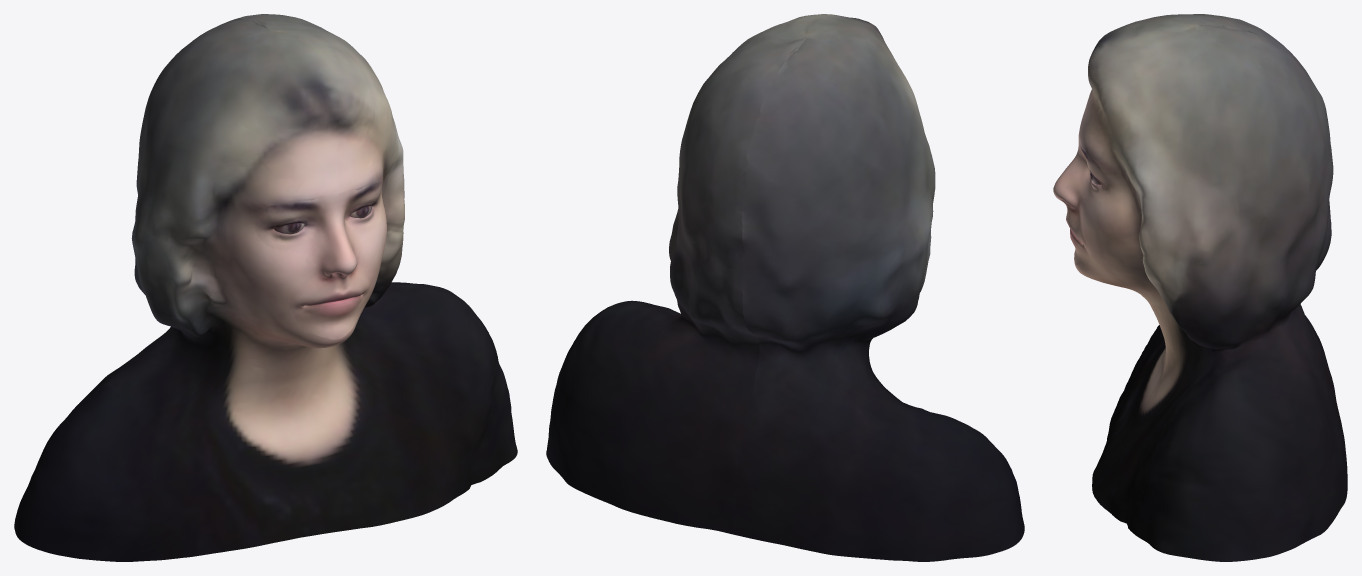
Rendered from LorenaNajera.gltf.
The picture shows the model from 3 angles, left to right: view 1: azimuth 30°, elevation 25°; view 2: azimuth 150°, elevation 25°; view 3: azimuth 270°, elevation 25°; orthographic projection. The views are drawn at different scales.
Visible parts, largest first — view 1: LorenaNajera; view 2: LorenaNajera; view 3: LorenaNajera.
Part boxes in pixels (bbox=[...]): LorenaNajera: bbox=[14, 14, 517, 561]; LorenaNajera: bbox=[546, 14, 1024, 561]; LorenaNajera: bbox=[1053, 14, 1347, 561].
Size of the model in its own units: 9.01 by 8.37 by 5.22.
1 material, 1 textured.
